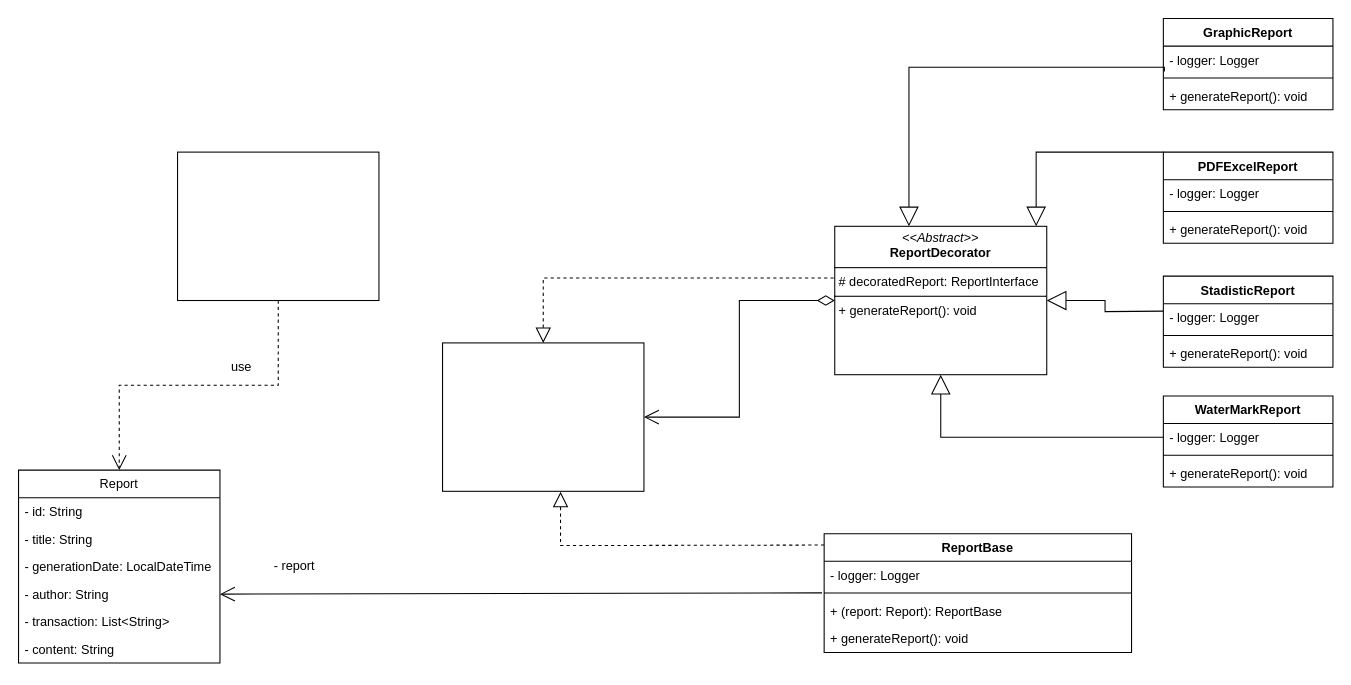
This 1351x685 diagram has some shape labels left out. The shapes that lost their labels are listed below. From the top down, each one's box as (x1, y1, x2, y2) in pixels, then its label:
(176, 151, 379, 301): <<Service>> ReportService
(441, 342, 644, 491): <<Interface>> ReportInterface + generateReport(): void
